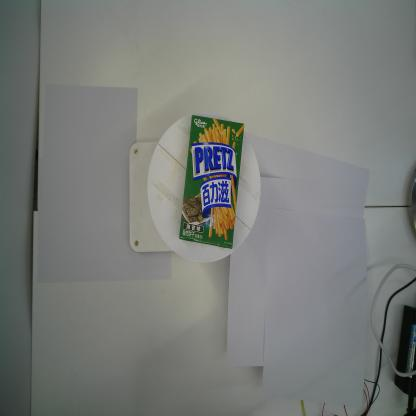Dessert: (178, 114, 246, 249)
